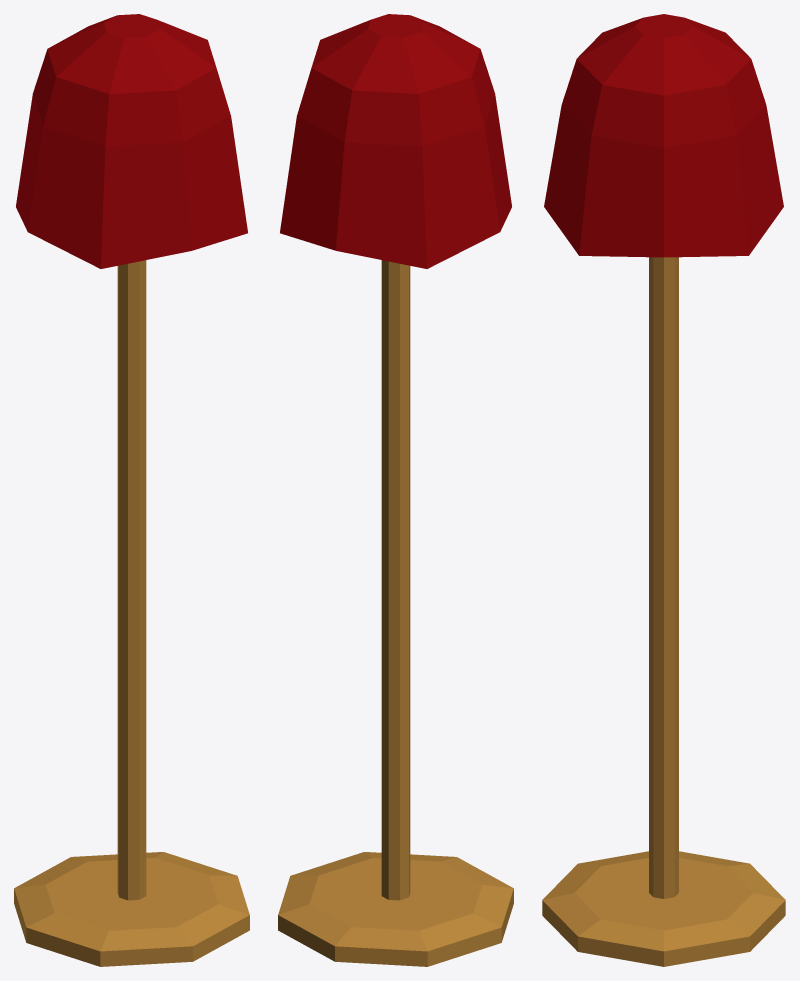
Rendered from tallLamp.fbx.
3 views of the same model, side by side, from view 1: azimuth 30°, elevation 25°; view 2: azimuth 150°, elevation 25°; view 3: azimuth 270°, elevation 25° (orthographic).
Visible parts, largest first — view 1: Cylinder.002, Cylinder, Cylinder.001; view 2: Cylinder.002, Cylinder, Cylinder.001; view 3: Cylinder.002, Cylinder, Cylinder.001.
Boxes of the visible parts, x1,y1,x2,y2 form: Cylinder.002: (16, 14, 247, 268); Cylinder: (14, 852, 249, 966); Cylinder.001: (117, 260, 146, 900); Cylinder.002: (280, 14, 511, 268); Cylinder: (278, 852, 513, 966); Cylinder.001: (381, 260, 410, 900); Cylinder.002: (544, 14, 783, 257); Cylinder: (542, 851, 785, 966); Cylinder.001: (649, 257, 678, 898).
Bounding box in the file's own units: 182 × 734 × 182.
